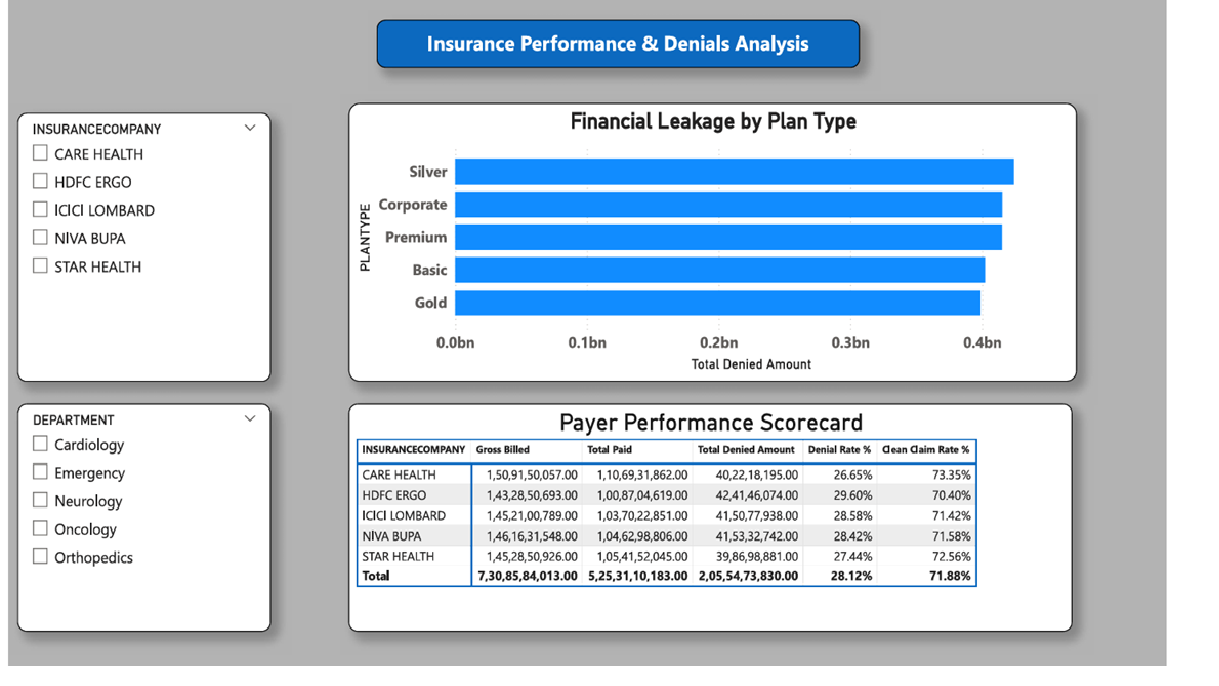

What the dashboard file says about the page in this screenshot:
{"tool":"powerbi","page":{"name":"Payer Benchmarking","canvas":[1280,720],"ordinal":2},"visuals":[{"type":"slicer","fields":{"Values":["INSURANCE.INSURANCECOMPANY"]},"box":[10,117.1,280,277.1],"z":0},{"type":"slicer","fields":{"Values":["CLINICAL.DEPARTMENT"]},"box":[10,415.7,280,235.7],"z":1000},{"type":"clusteredBarChart","title":"Financial Leakage by Plan Type","fields":{"Category":["INSURANCE.PLANTYPE"],"Y":["BILLING.Total Denied Amount"]},"box":[375.7,107.1,805.7,287.1],"z":2000},{"type":"pivotTable","title":"Payer Performance Scorecard","fields":{"Rows":["INSURANCE.INSURANCECOMPANY"],"Values":["BILLING.Gross Billed","BILLING.Total Paid","BILLING.Total Denied Amount","BILLING.Denial Rate %","BILLING.Clean Claim Rate %"]},"box":[375.7,415.7,800,235.7],"z":3000},{"type":"textbox","box":[407.1,21.4,534.3,50],"z":3001}]}

Visuals, with their boxes in screenshot pixels (x1, y1, x2, y2), scaled from the page's 1280x720 canvas onto the 1219x686 screenshot:
slicer - INSURANCE.INSURANCECOMPANY: box=[10, 112, 276, 376]
slicer - CLINICAL.DEPARTMENT: box=[10, 396, 276, 621]
"Financial Leakage by Plan Type" clusteredBarChart: box=[358, 102, 1125, 376]
"Payer Performance Scorecard" pivotTable: box=[358, 396, 1120, 621]
textbox: box=[388, 20, 897, 68]
